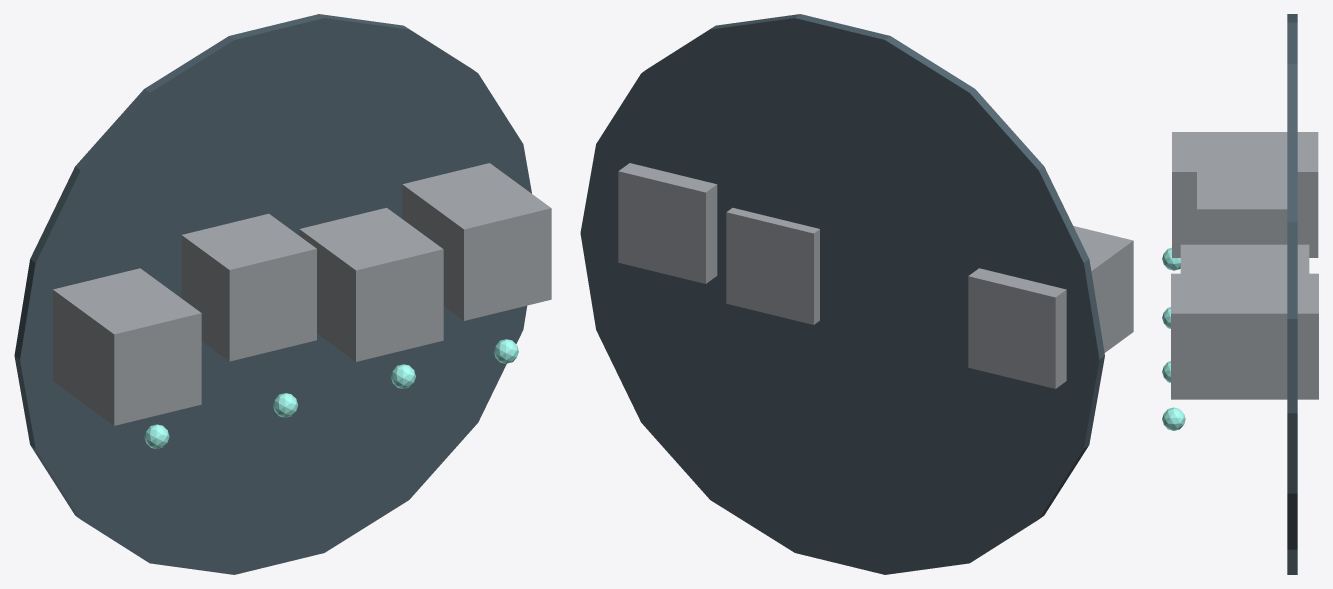
File: 02_display_prop_cluster.glb
The picture shows the model from 3 angles, left to right: view 1: azimuth 30°, elevation 25°; view 2: azimuth 150°, elevation 25°; view 3: azimuth 270°, elevation 25°; orthographic projection. The views are drawn at different scales.
Visible parts, largest first — view 1: scatter_base, tech_crate_0, tech_crate_3, tech_crate_2, tech_crate_1; view 2: scatter_base, tech_crate_0, tech_crate_3, tech_crate_2; view 3: tech_crate_3, tech_crate_0, tech_crate_1, scatter_base, tech_crate_2, status_light_3, status_light_0.
Part boxes in pixels (bbox=[...]): scatter_base: bbox=[14, 14, 531, 574]; tech_crate_0: bbox=[53, 268, 201, 425]; tech_crate_3: bbox=[402, 163, 551, 320]; tech_crate_2: bbox=[299, 207, 443, 361]; tech_crate_1: bbox=[181, 213, 316, 361]; scatter_base: bbox=[580, 14, 1104, 574]; tech_crate_0: bbox=[968, 226, 1133, 388]; tech_crate_3: bbox=[618, 163, 717, 283]; tech_crate_2: bbox=[726, 208, 819, 324]; tech_crate_3: bbox=[1171, 273, 1318, 399]; tech_crate_0: bbox=[1172, 132, 1318, 257]; tech_crate_1: bbox=[1197, 169, 1287, 244]; scatter_base: bbox=[1287, 14, 1297, 574]; tech_crate_2: bbox=[1180, 244, 1309, 273]; status_light_3: bbox=[1162, 407, 1185, 430]; status_light_0: bbox=[1162, 247, 1180, 270].
Bounding box in the file's own units: 1.9 × 1.87 × 0.5293.
